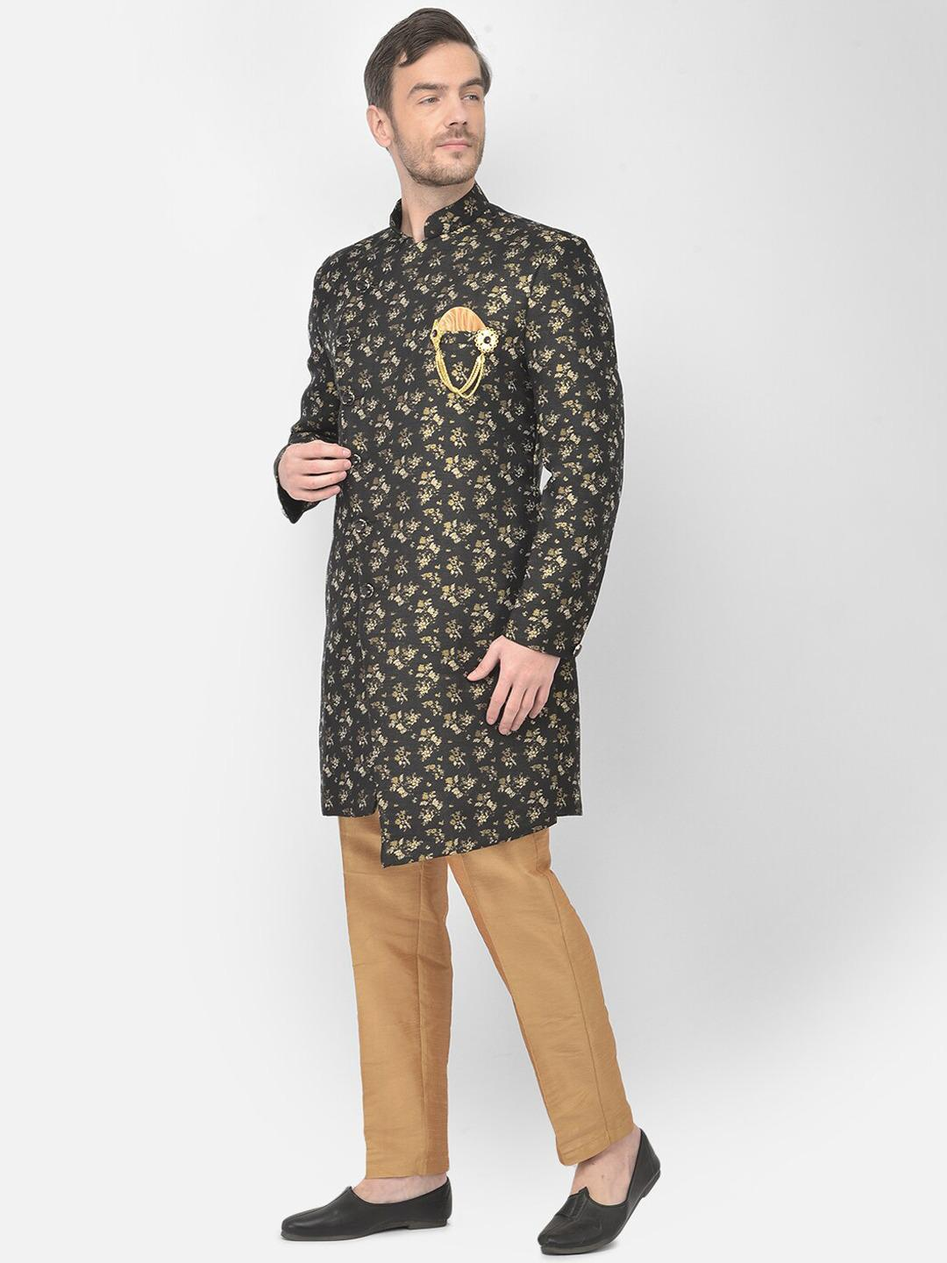Design Sherwani: (272, 186, 630, 865)
